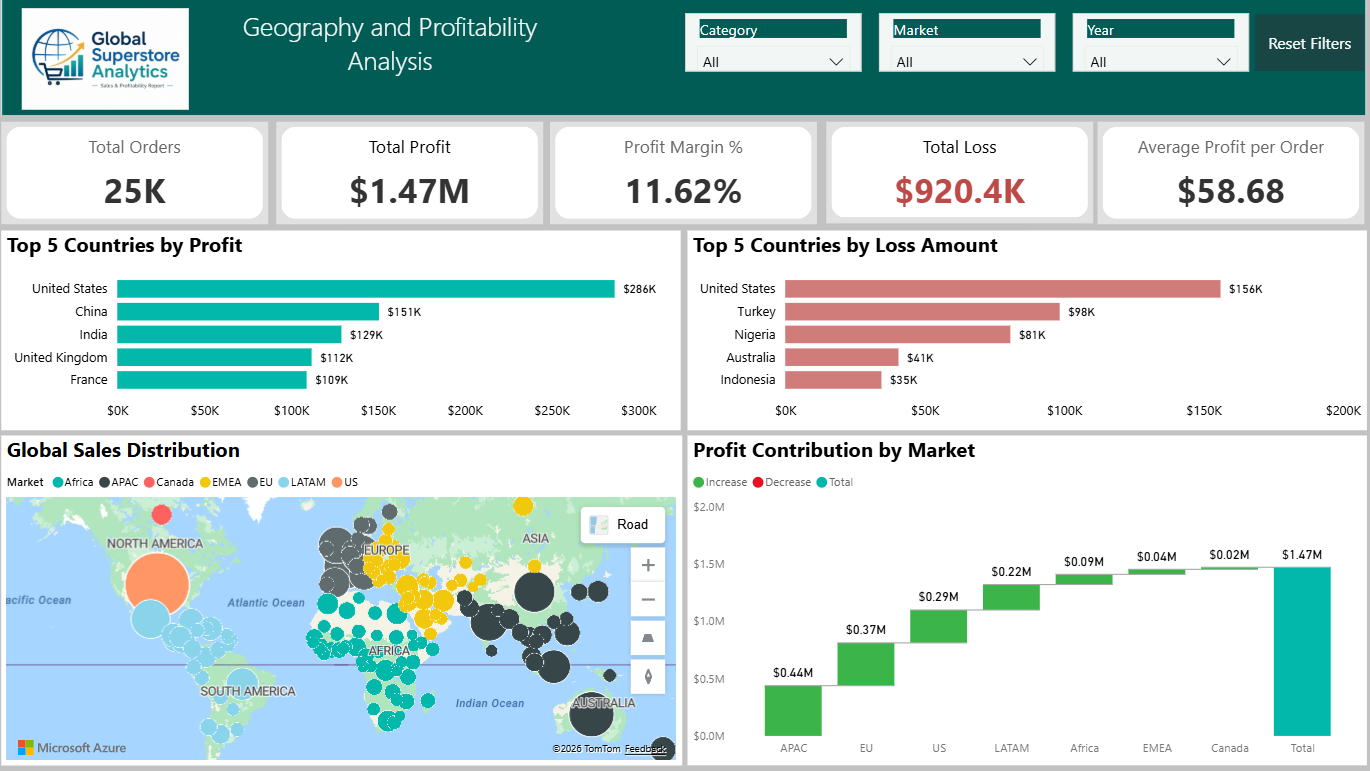

The dashboard page shown, as its layout file describes it:
{"tool":"powerbi","page":{"name":"Geography and Profitability Analysis","canvas":[1280,720],"ordinal":2},"visuals":[{"type":"shape","box":[5.8,0,1268.2,109.6],"z":0},{"type":"image","box":[10,5,184,104],"z":1000},{"type":"cardVisual","fields":{"Data":["Measures (2).Profit Margin %"]},"box":[515.1,114.8,248,95],"z":2000},{"type":"cardVisual","fields":{"Data":["Measures (2).Average Profit per Order"]},"box":[1024.5,114.8,248,95],"z":4000},{"type":"azureMap","title":"Global Sales Distribution ","fields":{"Category":["FactOrders.Country"],"Series":["DimGeography.Market"],"Size":["Measures (2).Total Sales"]},"box":[6.1,406.1,631.9,306],"z":5000},{"type":"waterfallChart","title":"Profit Contribution by Market","fields":{"Category":["DimGeography.Market"],"Y":["Measures (2).Total Profit"]},"box":[642.9,406,631,306.8],"z":6000},{"type":"slicer","fields":{"Values":["DimDate.Year"]},"box":[1001.3,14.4,164,54],"z":7000},{"type":"slicer","fields":{"Values":["DimProduct.Category"]},"box":[640.6,14.4,164,54],"z":8000},{"type":"slicer","fields":{"Values":["DimGeography.Market"]},"box":[820.9,14.4,164,54],"z":9000},{"type":"textbox","box":[217.9,4.3,297.2,105.3],"z":10000},{"type":"clusteredBarChart","title":"Top 5 Countries by Loss Amount","fields":{"Category":["DimGeography.Country"],"Y":["Measures (2).Total Loss"]},"box":[642.9,216,631,185.3],"z":11000},{"type":"actionButton","box":[1170.6,14.7,101.8,52.8],"z":12000},{"type":"barChart","title":"Top 5 Countries by Profit","fields":{"Category":["DimGeography.Country"],"Y":["Measures (2).Total Profit"]},"box":[6.1,216,631,185.3],"z":13000},{"type":"cardVisual","fields":{"Data":["Measures (2).Total Orders"]},"box":[6.1,114.8,248,95],"z":14000},{"type":"cardVisual","fields":{"Data":["Measures (2).Total Profit"]},"box":[261.1,114.8,248,95],"z":15000},{"type":"cardVisual","fields":{"Data":["Measures (2).Loss Amount"]},"box":[771.8,115.3,248,94.5],"z":16000}]}

Visuals, with their boxes in screenshot pixels (x1, y1, x2, y2), scaled from the page's 1280x720 canvas onto the 1370x771 screenshot:
shape: bbox=[6, 0, 1364, 117]
image: bbox=[11, 5, 208, 117]
cardVisual - Measures (2).Profit Margin %: bbox=[551, 123, 817, 225]
cardVisual - Measures (2).Average Profit per Order: bbox=[1097, 123, 1362, 225]
"Global Sales Distribution " azureMap: bbox=[7, 435, 683, 763]
"Profit Contribution by Market" waterfallChart: bbox=[688, 435, 1363, 763]
slicer - DimDate.Year: bbox=[1072, 15, 1247, 73]
slicer - DimProduct.Category: bbox=[686, 15, 861, 73]
slicer - DimGeography.Market: bbox=[879, 15, 1054, 73]
textbox: bbox=[233, 5, 551, 117]
"Top 5 Countries by Loss Amount" clusteredBarChart: bbox=[688, 231, 1363, 430]
actionButton: bbox=[1253, 16, 1362, 72]
"Top 5 Countries by Profit" barChart: bbox=[7, 231, 682, 430]
cardVisual - Measures (2).Total Orders: bbox=[7, 123, 272, 225]
cardVisual - Measures (2).Total Profit: bbox=[279, 123, 545, 225]
cardVisual - Measures (2).Loss Amount: bbox=[826, 123, 1092, 225]
